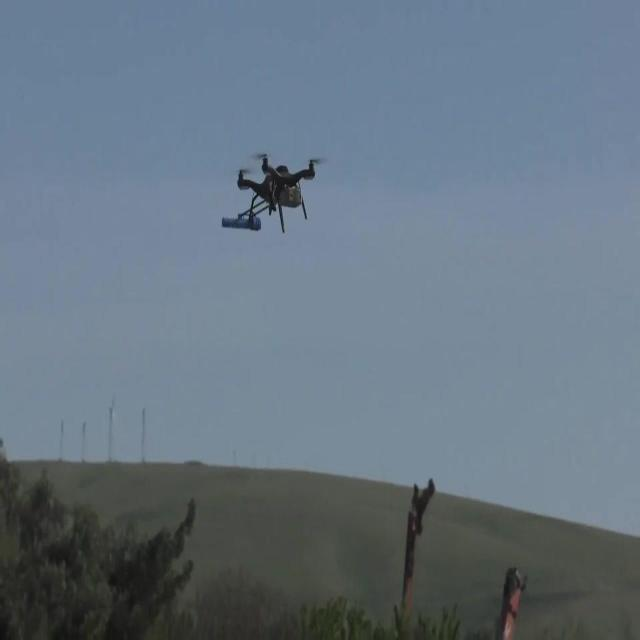UAV: (222, 153, 328, 233)
